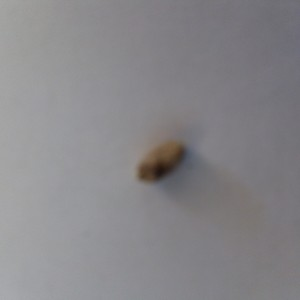trigo: (128, 135, 188, 188)
